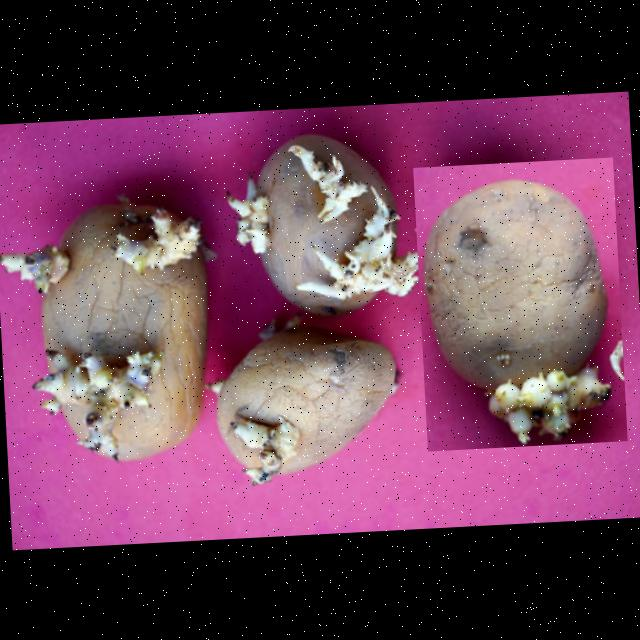Sprouted potato: (412, 157, 627, 450), (0, 199, 220, 470), (212, 115, 426, 333), (189, 336, 410, 486)
